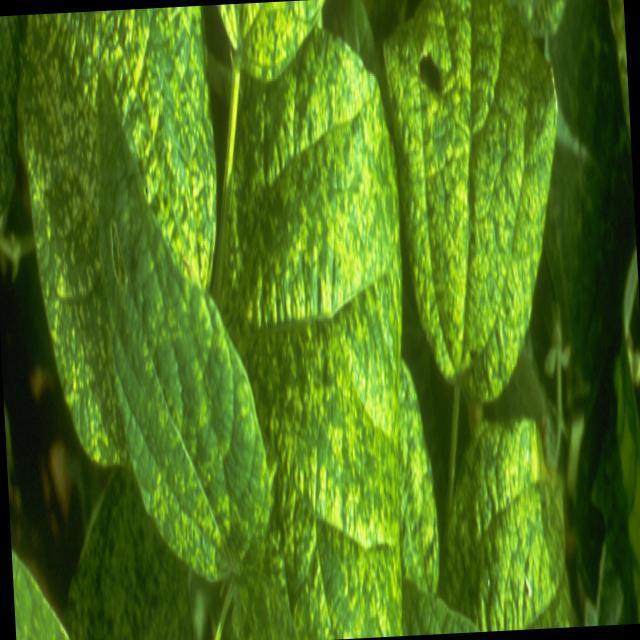Mosaic Virus: (210, 26, 418, 629), (30, 5, 241, 461), (399, 0, 571, 401), (434, 412, 574, 634)
